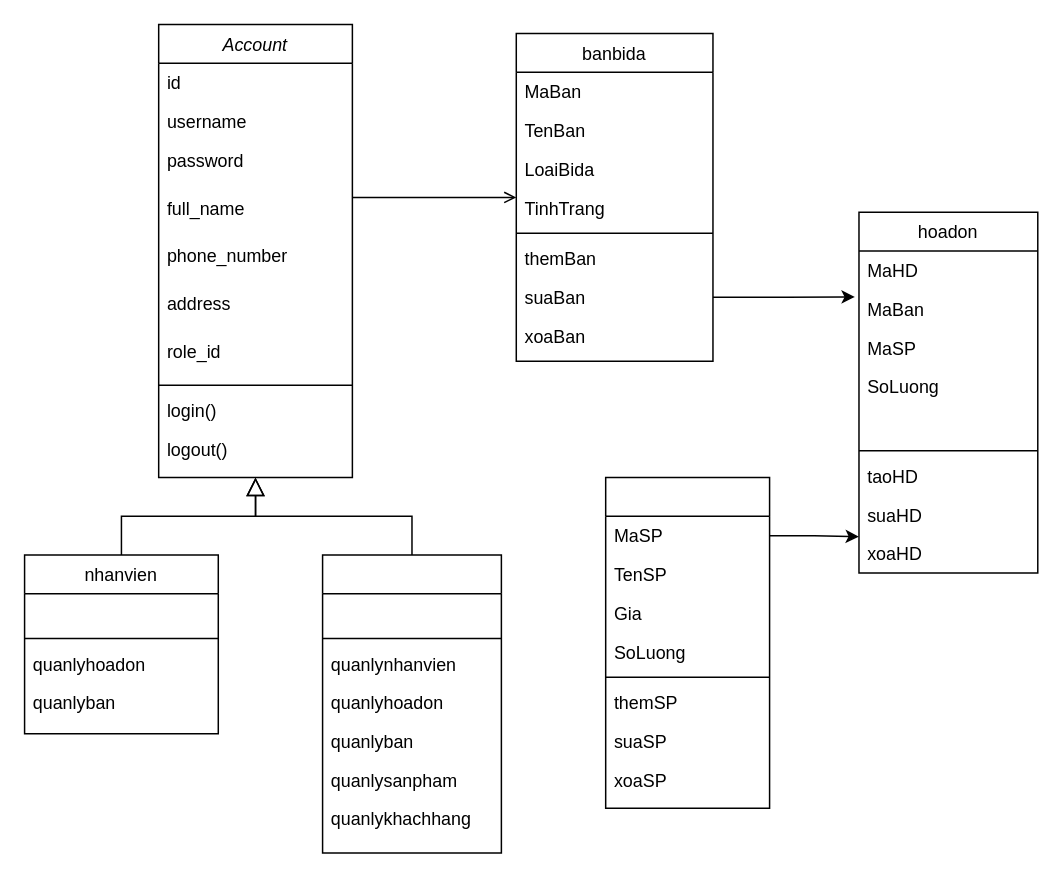
Some shapes in this 1062 by 878 pixel diagram are drawn without their labels. The shapes that lost their labels are listed below. From the top down, each one's box as (x1, y1, x2, y2) in pixels, then its label:
(604, 476, 770, 808): sanpham
(321, 554, 501, 853): admin
